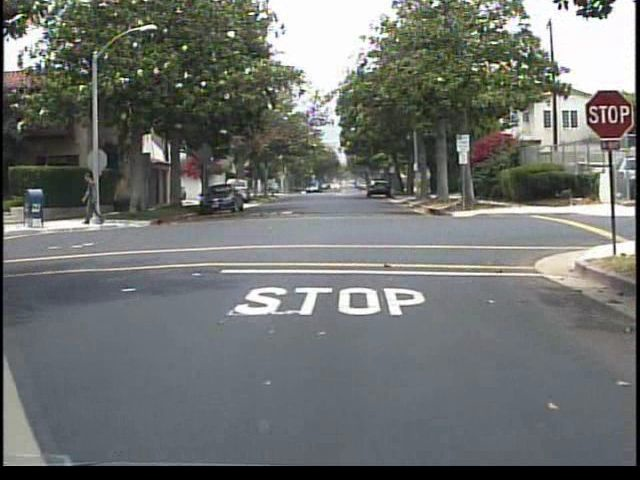person: (79, 166, 108, 230)
